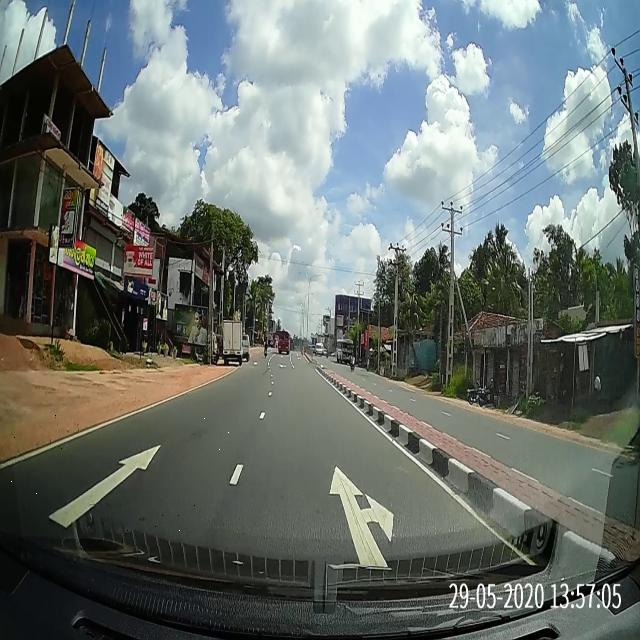forward: (8, 412, 251, 546)
